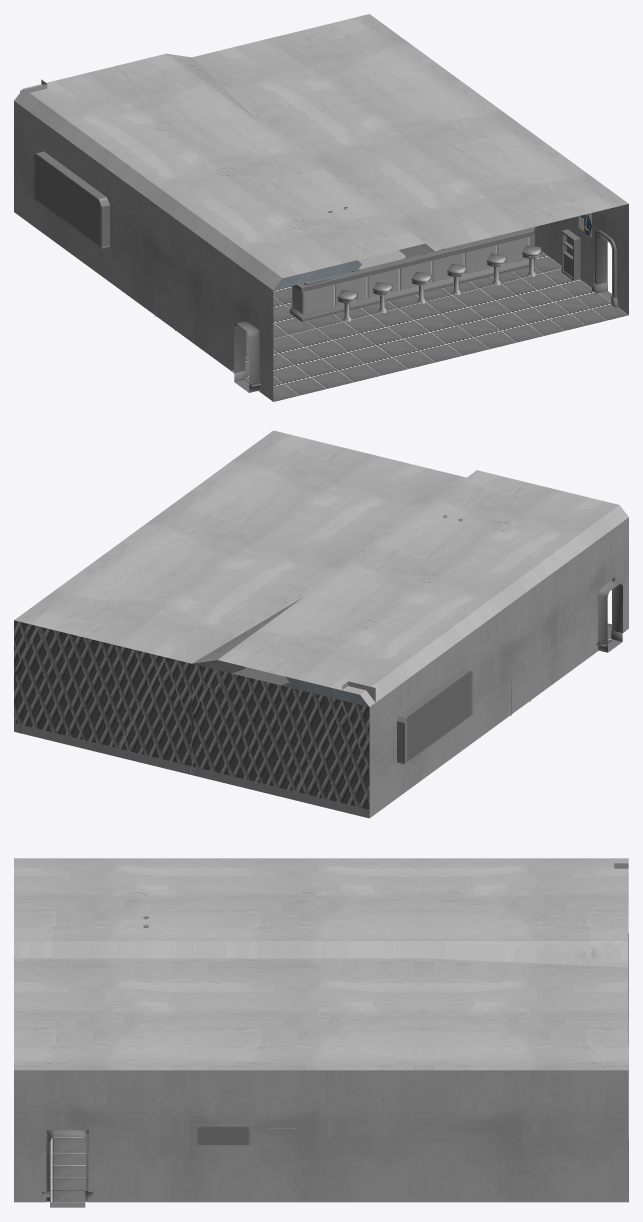
The model's file is MSH_Bar_room_L3_R2_optimized.fbx.
3 views of the same model, one above another, from view 1: azimuth 30°, elevation 25°; view 2: azimuth 150°, elevation 25°; view 3: azimuth 270°, elevation 25° (orthographic). The views are drawn at different scales.
Parts seen in each view (by area): view 1: lightmap1, lightmap2, lightmap-1; view 2: lightmap1, lightmap-1; view 3: lightmap1, lightmap2.
Boxes of the visible parts, left/top/right/bottom form: lightmap1: left=14, top=14, right=628, bottom=401; lightmap2: left=20, top=79, right=591, bottom=356; lightmap-1: left=234, top=235, right=611, bottom=392; lightmap1: left=14, top=430, right=628, bottom=818; lightmap-1: left=597, top=581, right=622, bottom=652; lightmap1: left=14, top=858, right=628, bottom=1202; lightmap2: left=124, top=863, right=628, bottom=1148.
Size of the model in its own units: 20.61 by 6.7 by 24.78.
